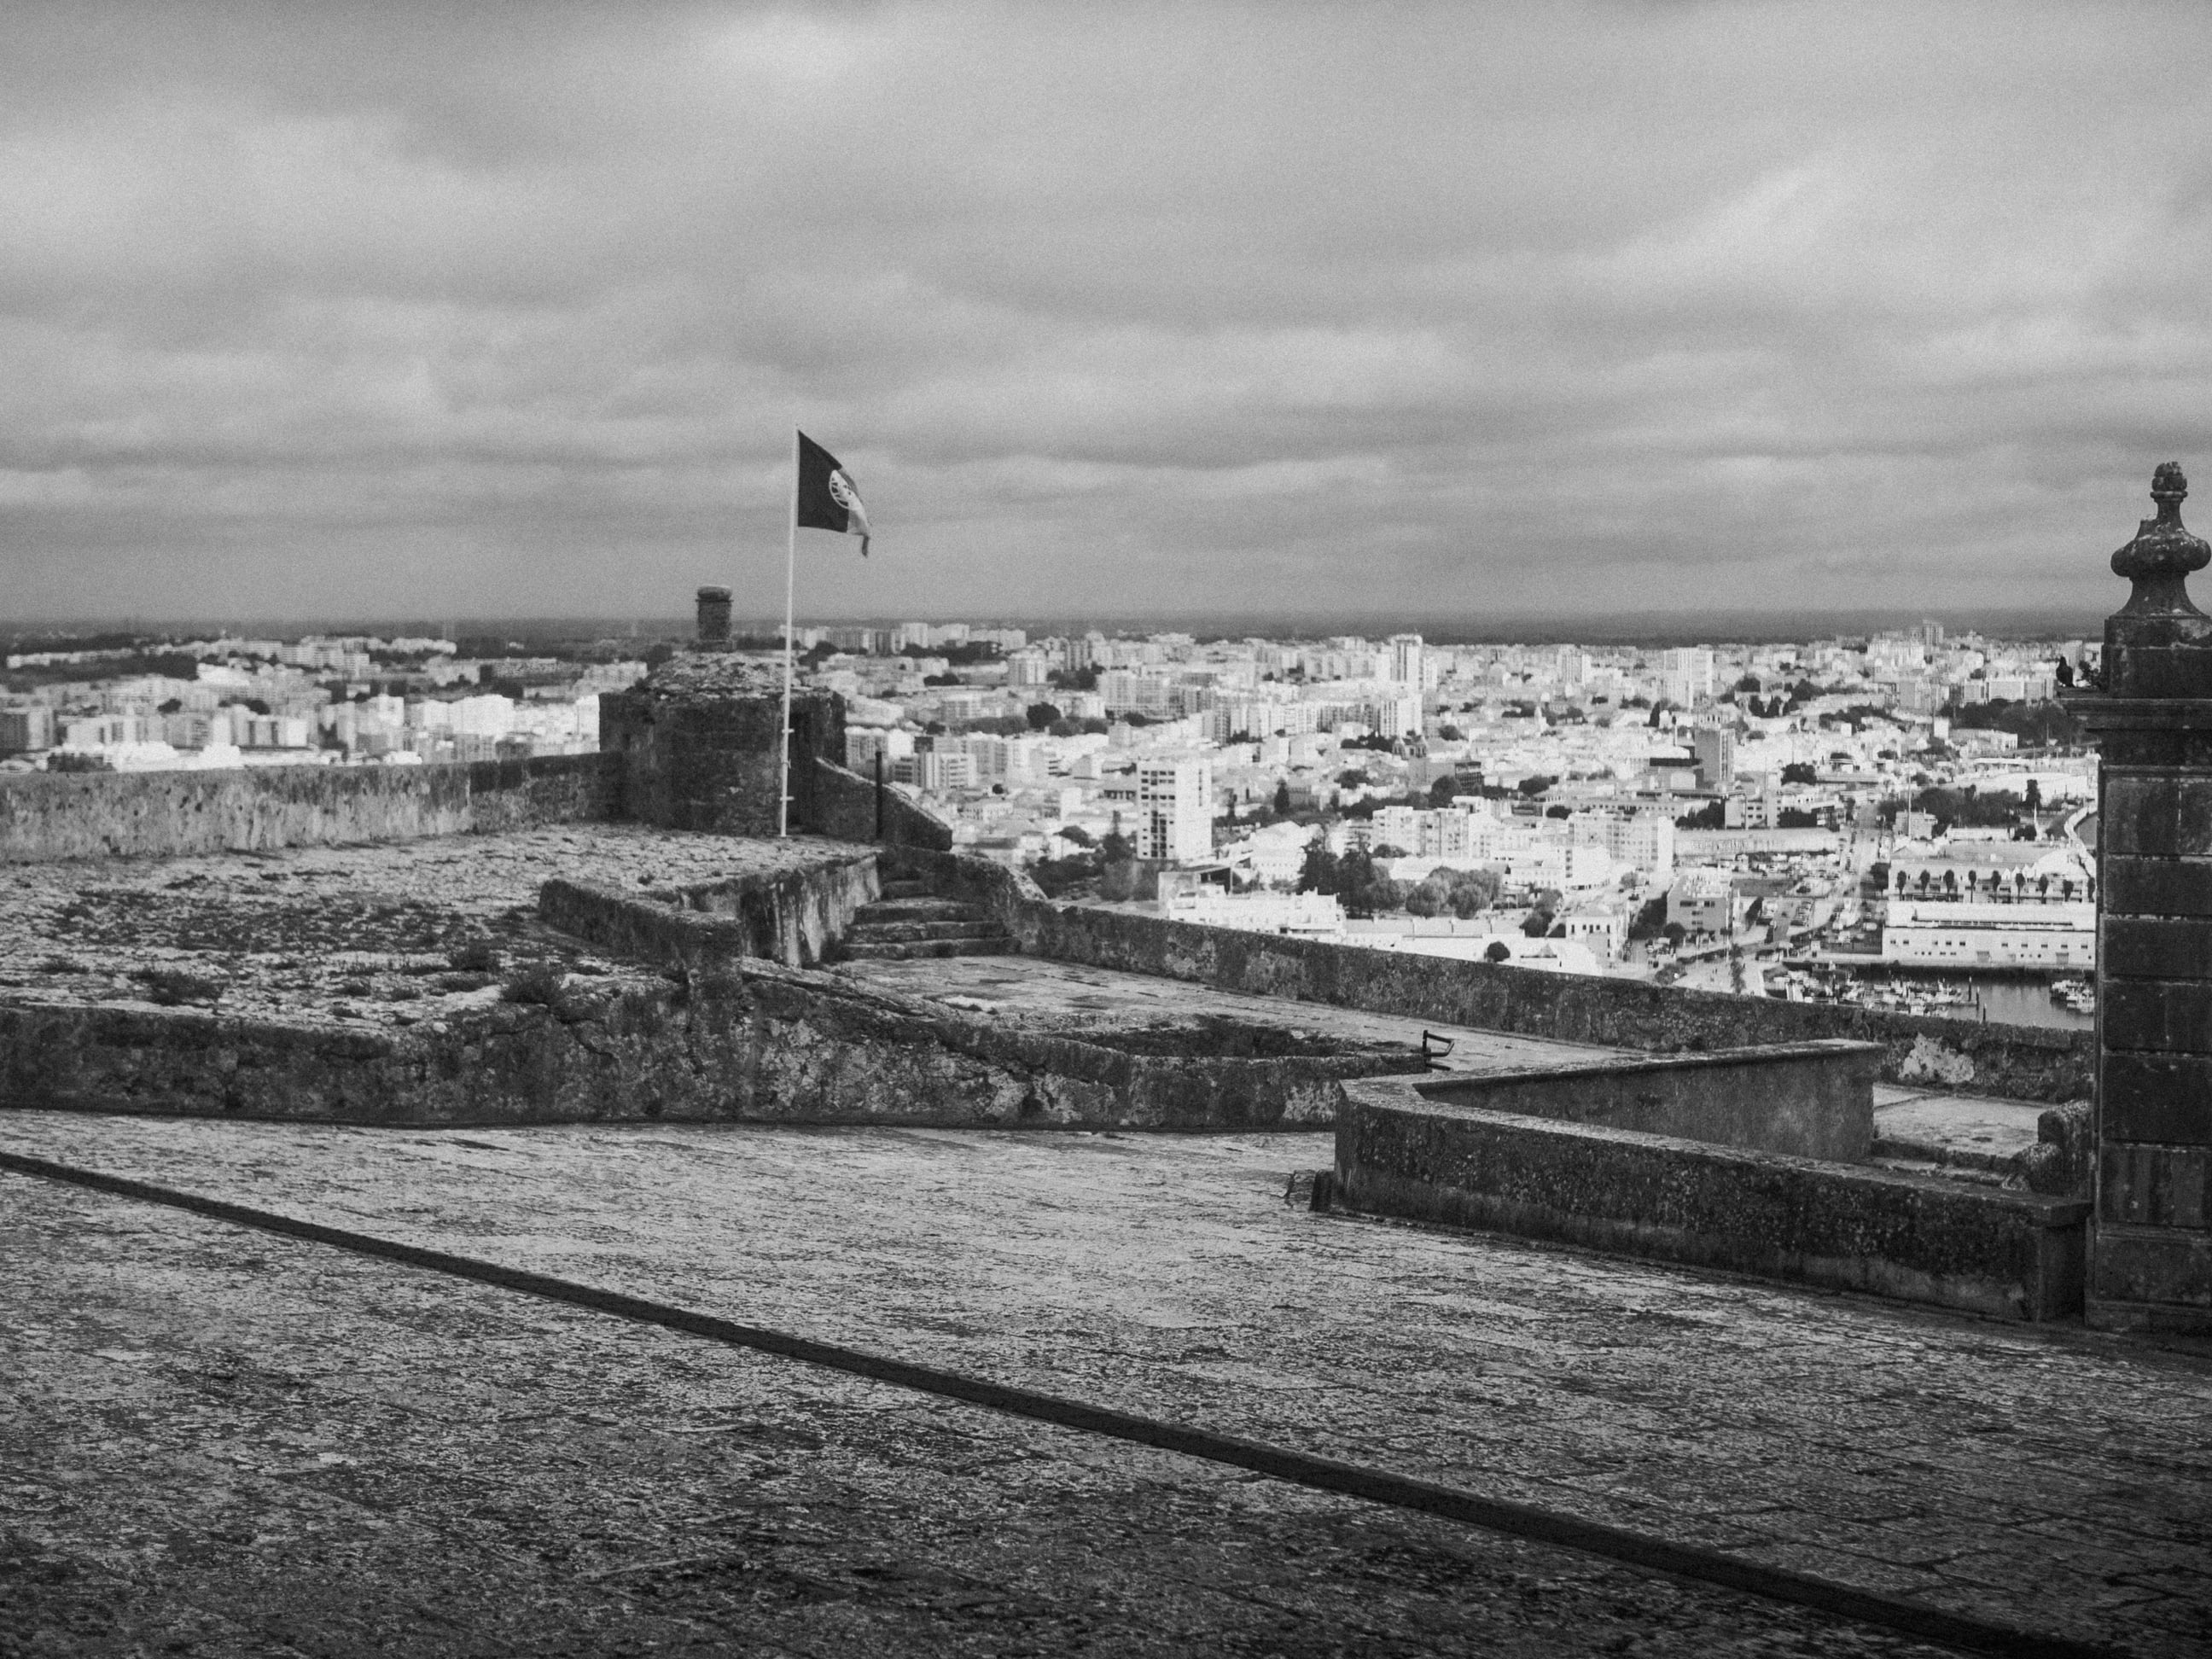Flag: (798, 422, 871, 558)
